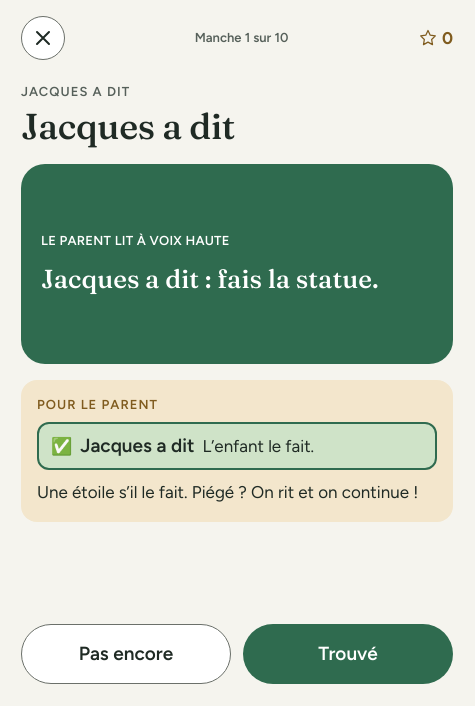
Test: Jacques a dit, en jeu › le parent voit d’emblée si c’est un piège, sans réponse à dévoiler
Later steps or results of the test are not shown.
Expected: the text "Jacques a dit" next to "L’enfant le fait." is shown, left=80, top=434, right=194, bottom=457
Expected: the element "Pour le parent" shows "Une étoile s’il le fait.", left=37, top=482, right=188, bottom=502
Click the button "Trouvé".
click(348, 654)  # box left=243, top=624, right=453, bottom=684
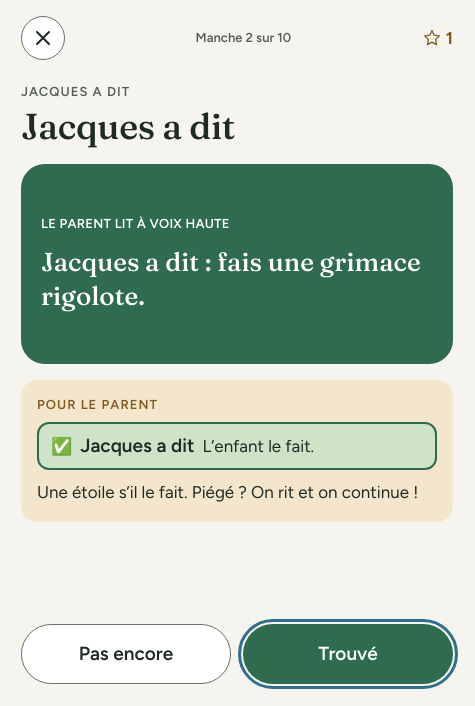
Expected: the text "Jacques a dit" next to "L’enfant le fait." is shown, left=80, top=434, right=194, bottom=457
Now the text "Manche 2 sur 10" is shown, box left=196, top=29, right=291, bottom=47
Click the button "Pas encore".
click(126, 654)  # box left=21, top=624, right=231, bottom=684
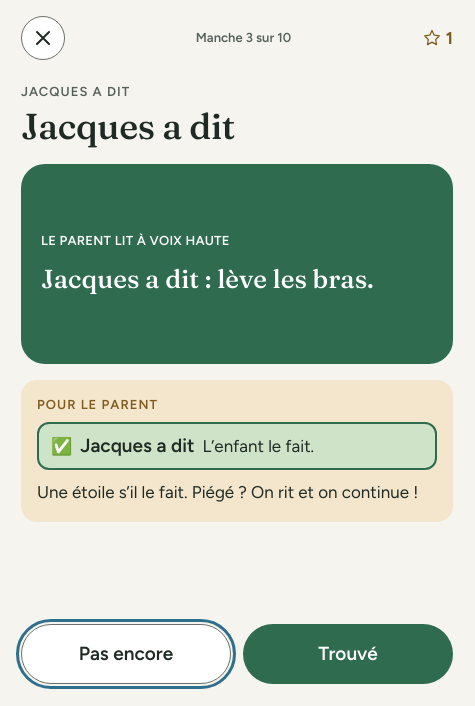
Expected: the text "Jacques a dit" next to "L’enfant le fait." is shown, left=80, top=434, right=194, bottom=457
Now the text "Manche 3 sur 10" is shown, box left=196, top=29, right=291, bottom=47
